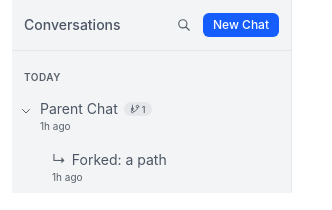
Test: ConversationList — fork tree rendering › clicking the chevron hides forks, flips its label, and persists collapsed-state to localStorage
Expected: the text "Forked: a path" is shown, [72,150,167,170]
# Toggle collapse.
Click the button named "Collapse forks": (26, 111) [16,101,36,121]
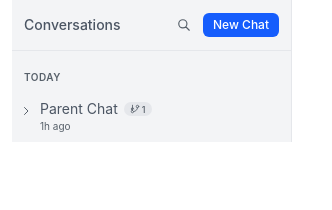
Result: the button "Forked: a path" is gone
Result: the button named "Expand forks" is shown at [16,101,36,121]
